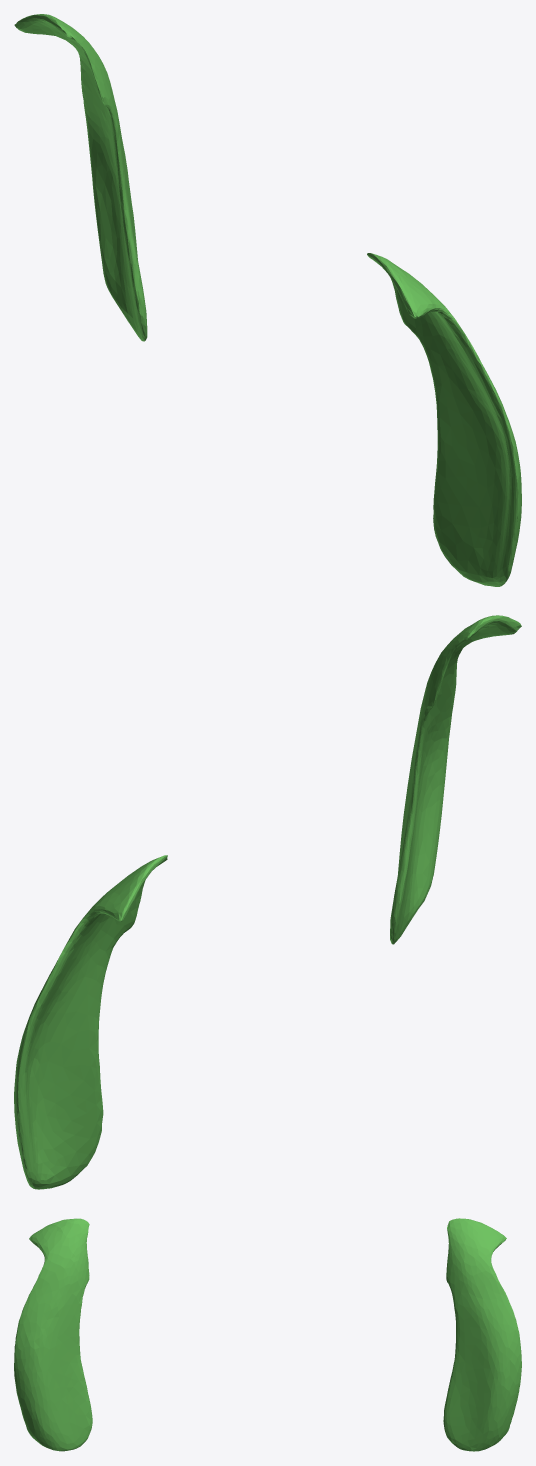
The picture shows the model from 3 angles, top to bottom: view 1: azimuth 30°, elevation 25°; view 2: azimuth 150°, elevation 25°; view 3: azimuth 270°, elevation 25°; orthographic projection. The views are drawn at different scales.
Parts seen in each view (by area): view 1: 664.obj; view 2: 664.obj; view 3: 664.obj.
Part boxes in pixels (box(x1,y1,x2,y2)): 664.obj: box(14, 14, 521, 586); 664.obj: box(14, 615, 521, 1189); 664.obj: box(14, 1218, 521, 1451).
Size of the model in its own units: 1248 by 3753 by 8406.
